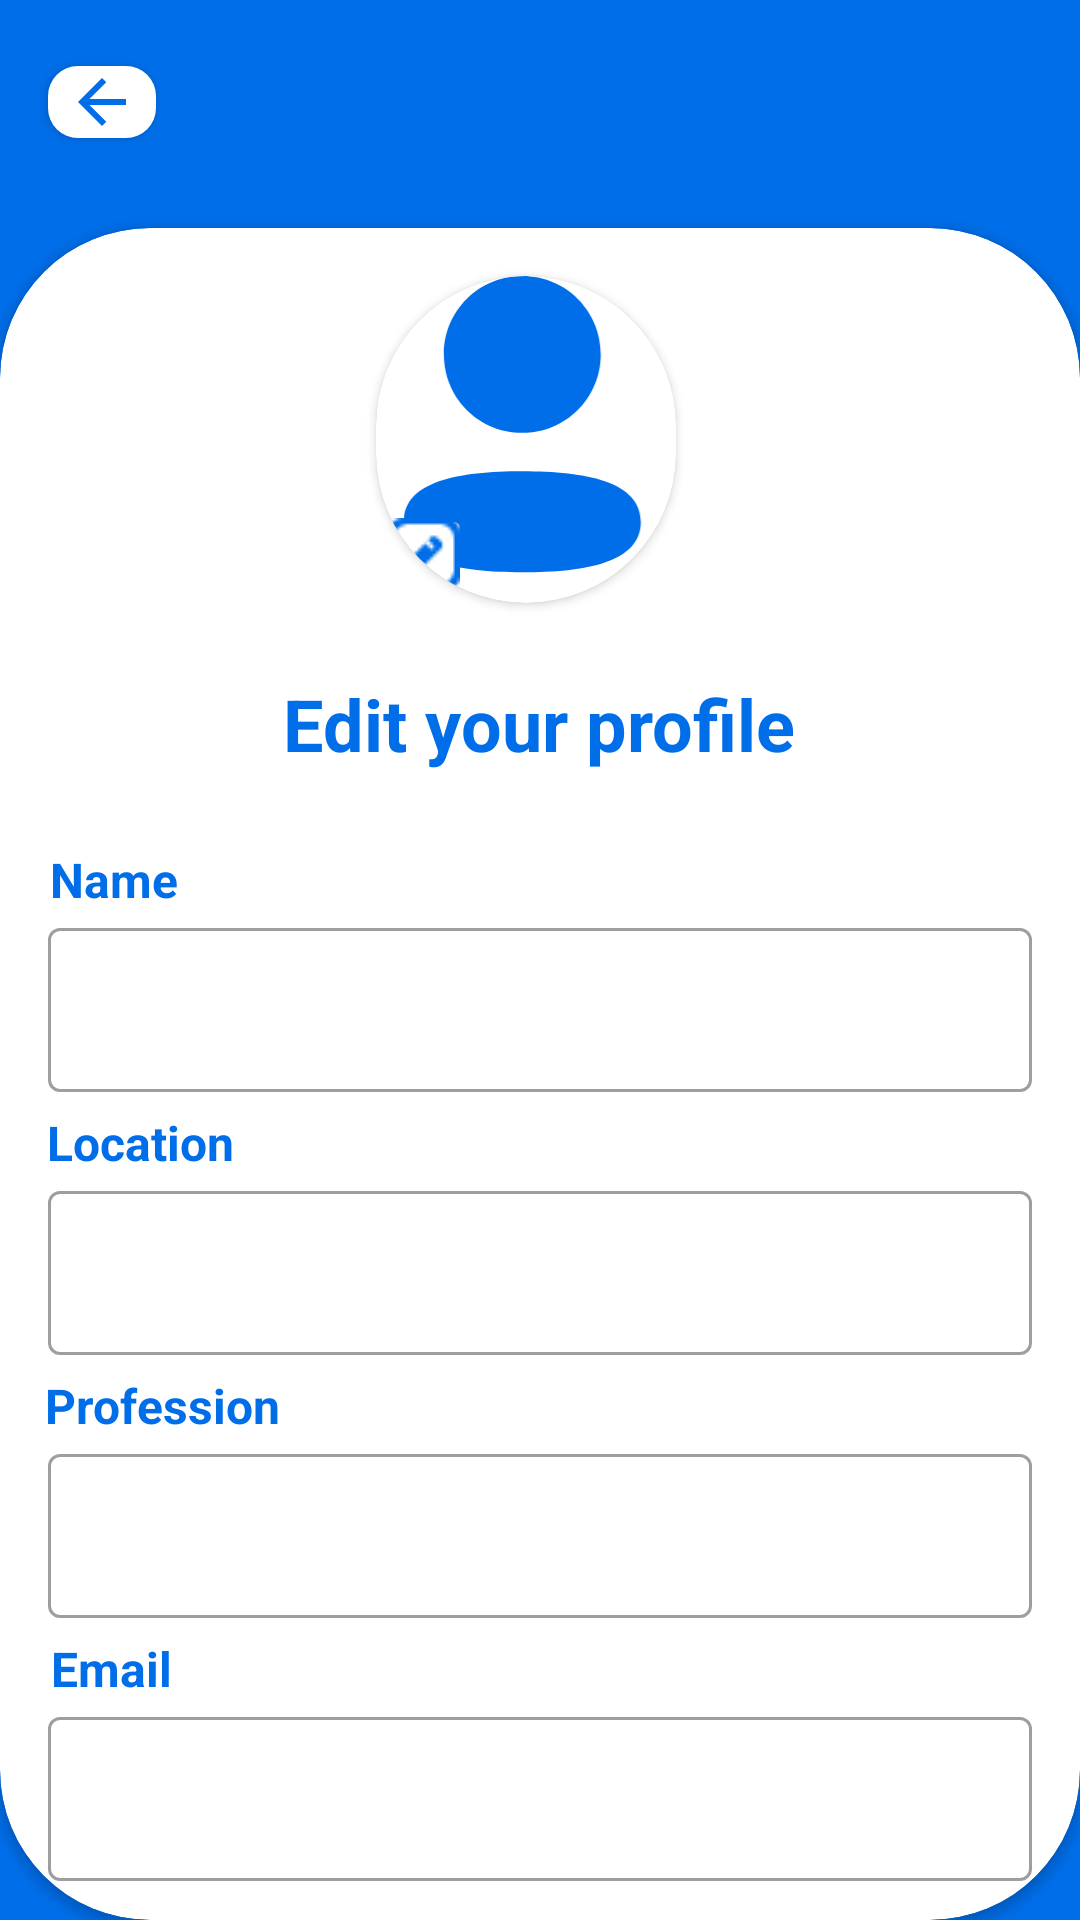

Icon click points for this 1080 × 1920 phone screenshot, format [x,y]:
arrow back: [102,102]
